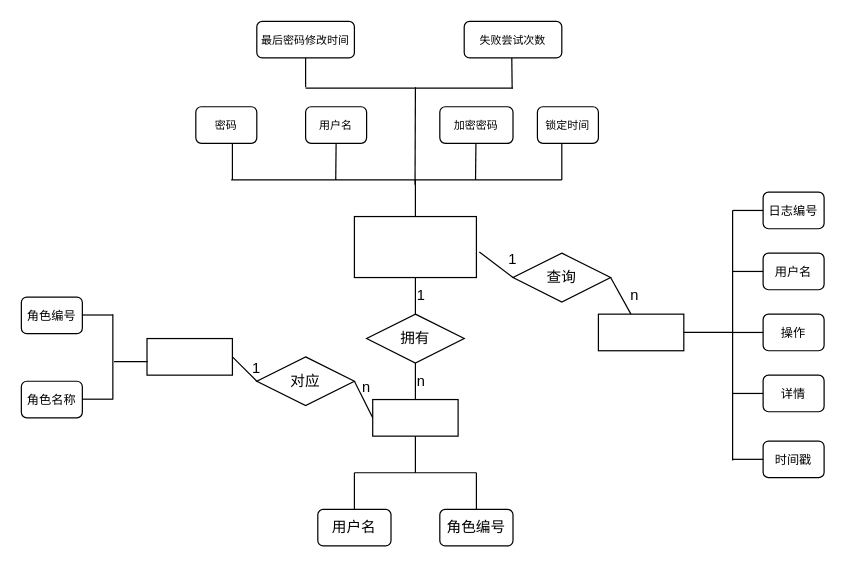
This 845x567 diagram has some shape labels left out. Each missing label, with the centre of its shape:
日志: pixel 640 332
用户: pixel 414 246
用户角色: pixel 414 417
角色: pixel 189 356
